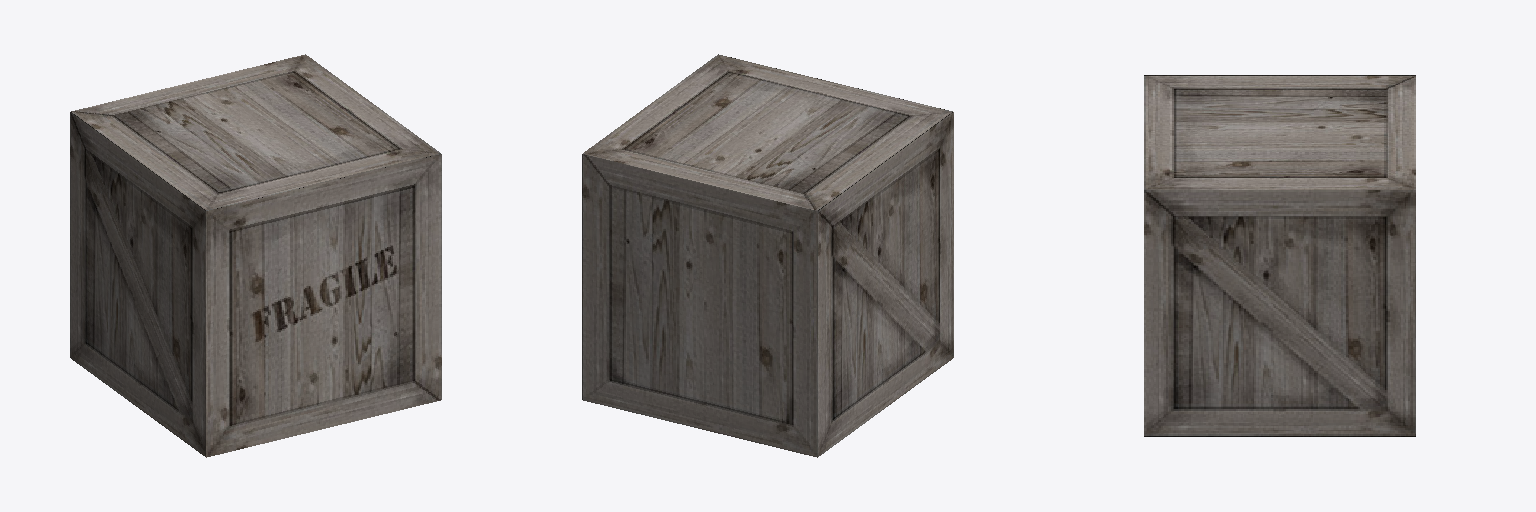
3 renders of one model, left to right at view 1: azimuth 30°, elevation 25°; view 2: azimuth 150°, elevation 25°; view 3: azimuth 270°, elevation 25°, orthographic.
Parts seen in each view (by area): view 1: Cube; view 2: Cube; view 3: Cube.
Part boxes in pixels (bbox=[...]): Cube: bbox=[70, 54, 441, 457]; Cube: bbox=[582, 54, 953, 457]; Cube: bbox=[1144, 75, 1415, 436].
Bounding box in the file's own units: 1.16 × 1.16 × 1.16.
1 materials, 1 textured.